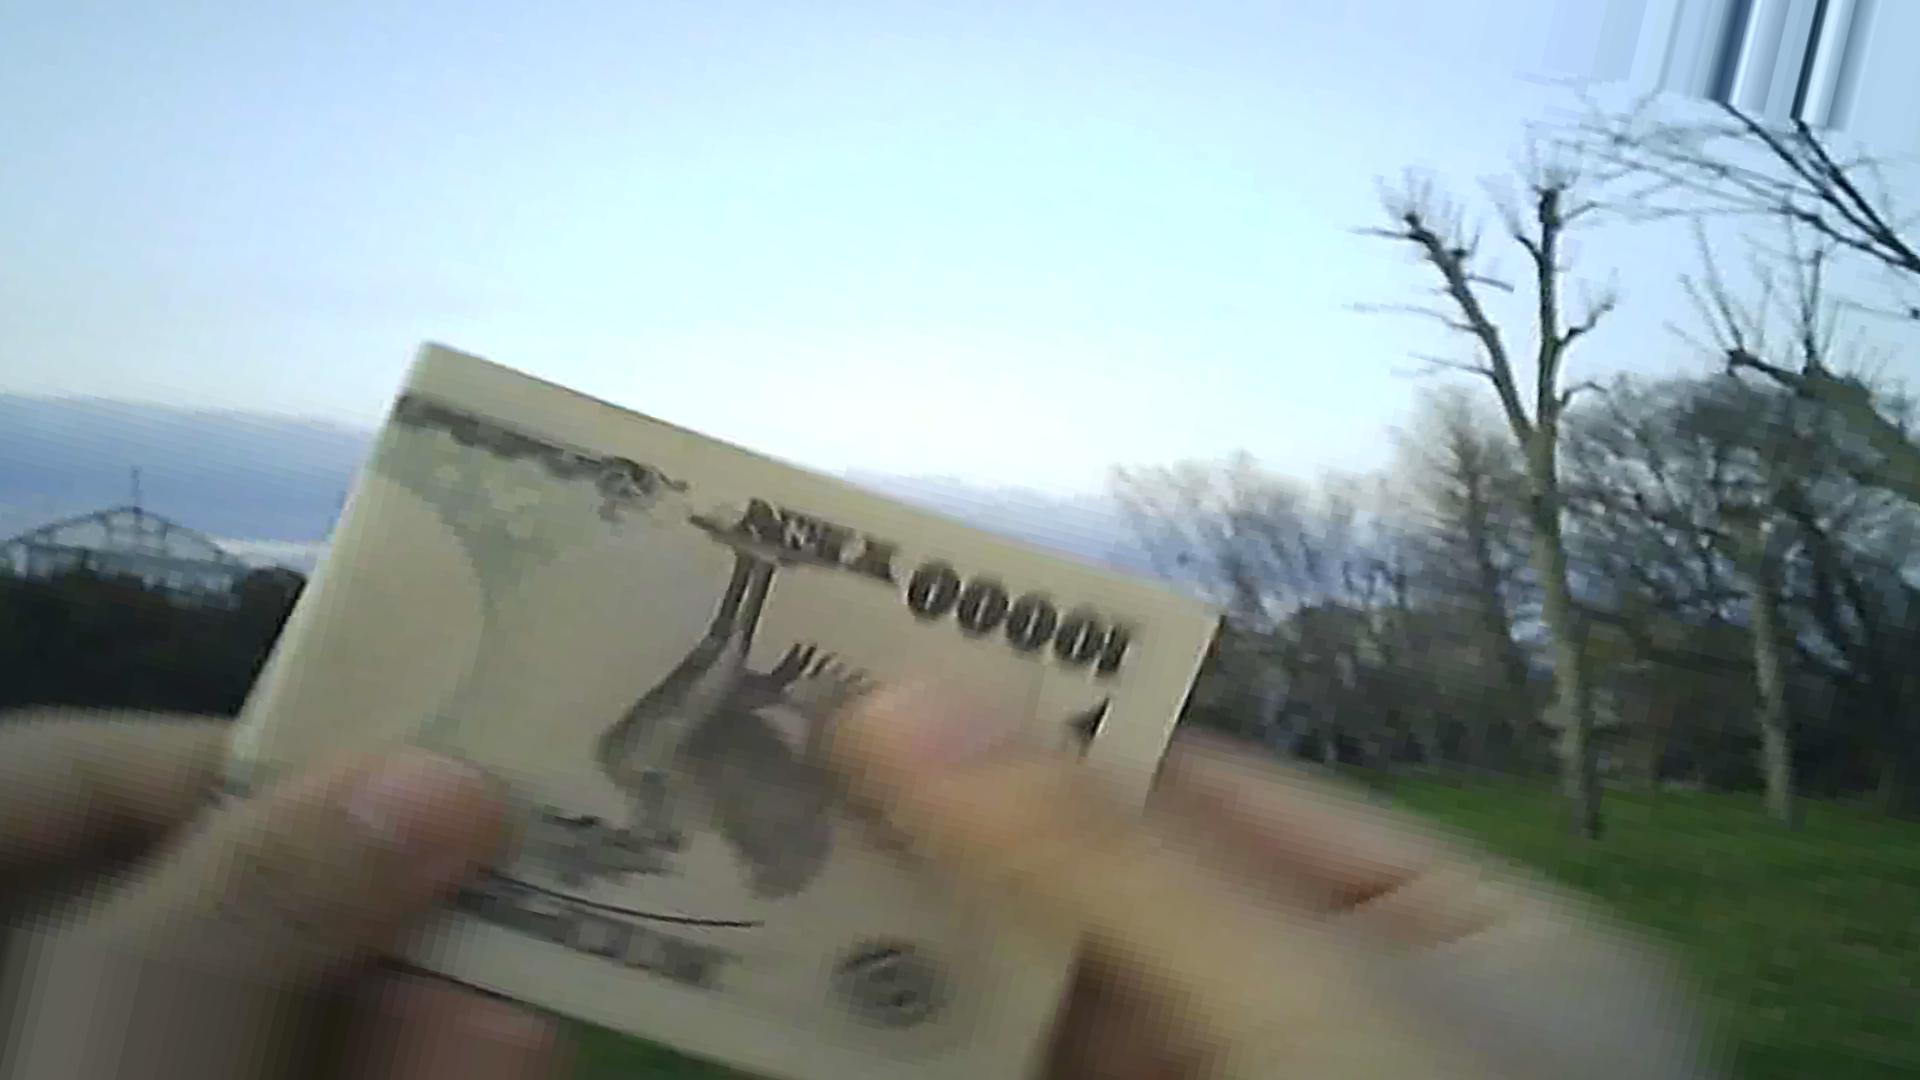10,000 Yen: (237, 348, 1149, 1040)
